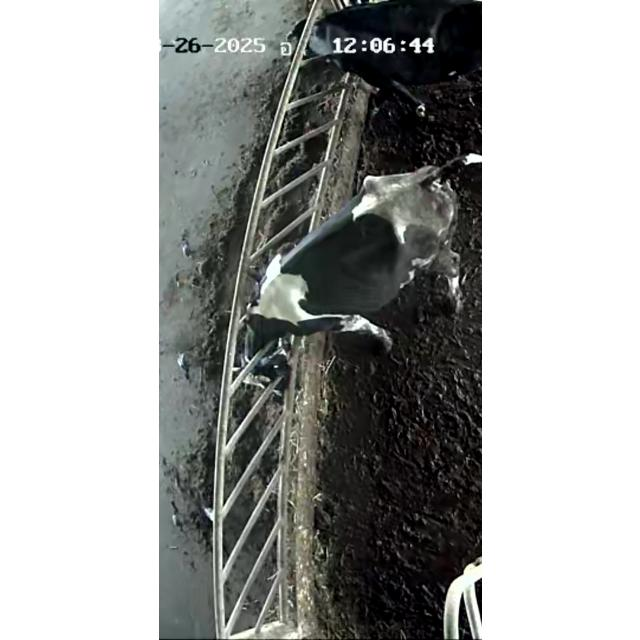eat: (186, 252, 354, 398), (258, 3, 394, 88)
